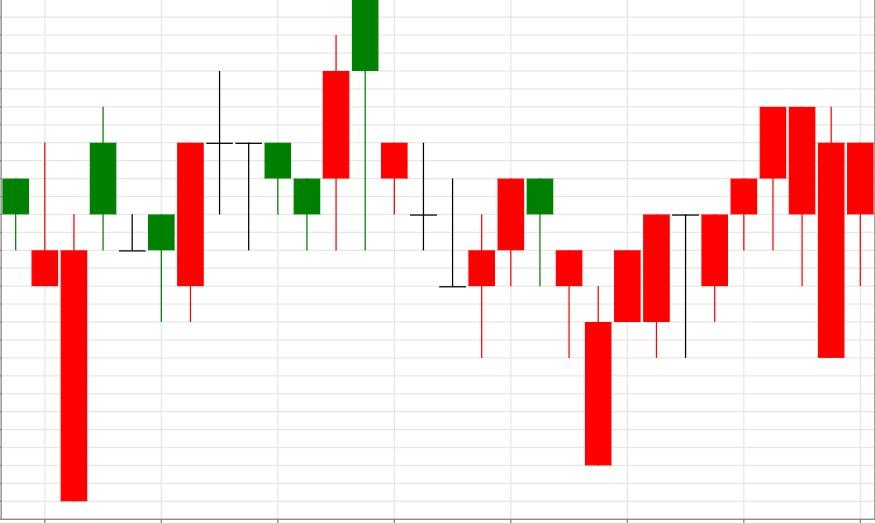bullish_engulfing_rise: (89, 105, 205, 322)
hanging_man_fall: (293, 0, 379, 250), (440, 178, 554, 359)
